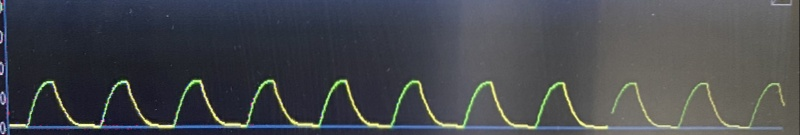normal_volume: (8, 72, 794, 135)
